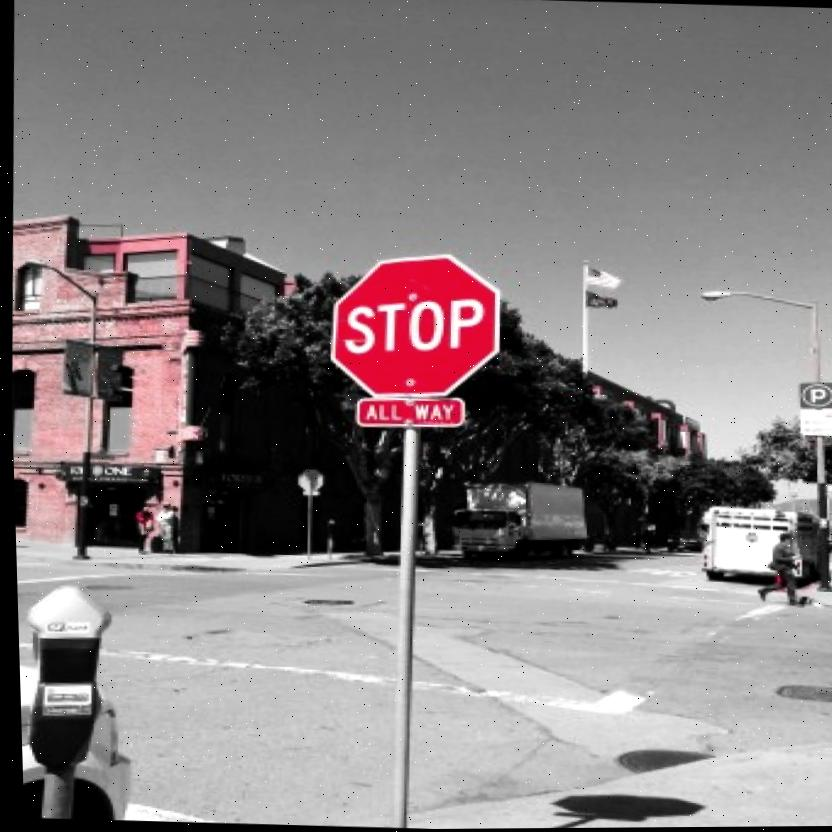Pole: (379, 431, 425, 825), (302, 496, 310, 558)
Sign: (325, 254, 501, 397), (293, 470, 321, 491)
